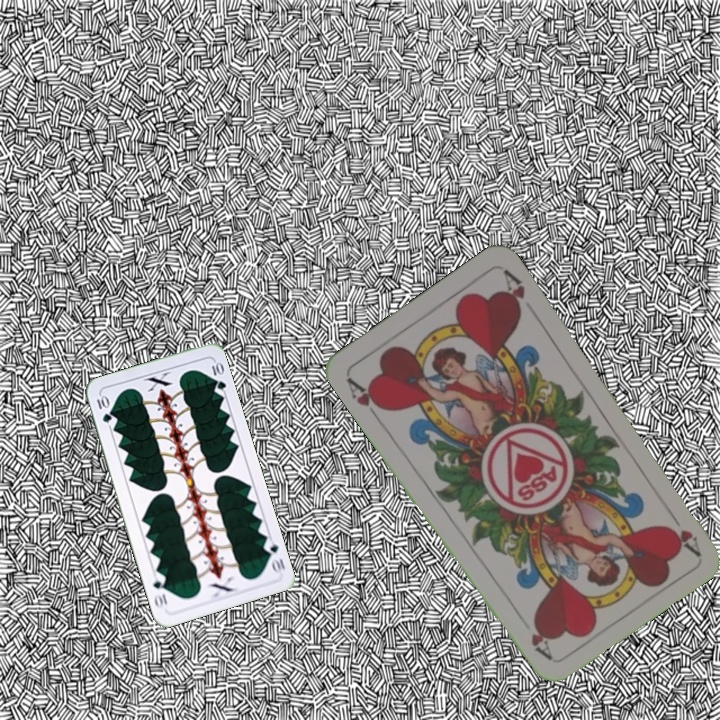G10: (260, 535, 288, 575), (93, 391, 114, 425)
HA: (342, 374, 389, 425), (663, 504, 703, 557)
